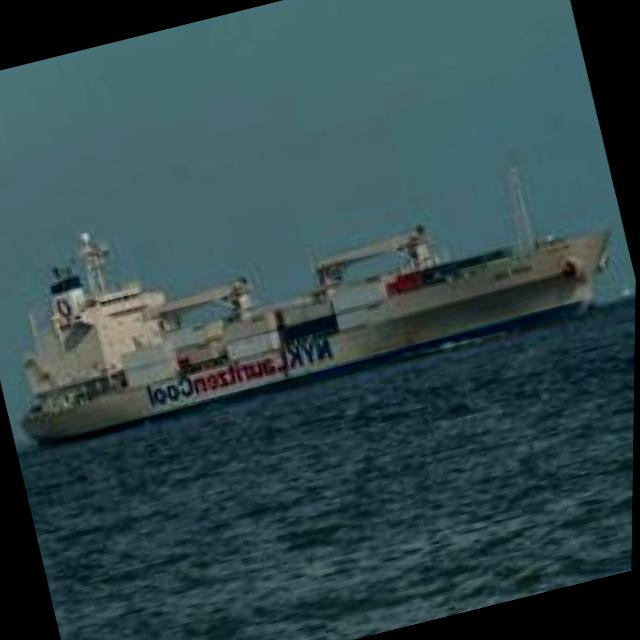ship2: (22, 172, 612, 448)
